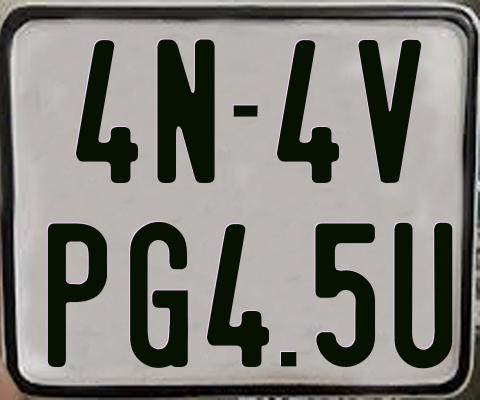4: (207, 223, 272, 371), (74, 40, 139, 187), (274, 38, 336, 187)
5: (315, 223, 378, 373)
G: (127, 221, 191, 367)
N: (157, 37, 221, 185)
P: (47, 223, 109, 369)
U: (392, 223, 453, 369)
V: (355, 37, 420, 185)
